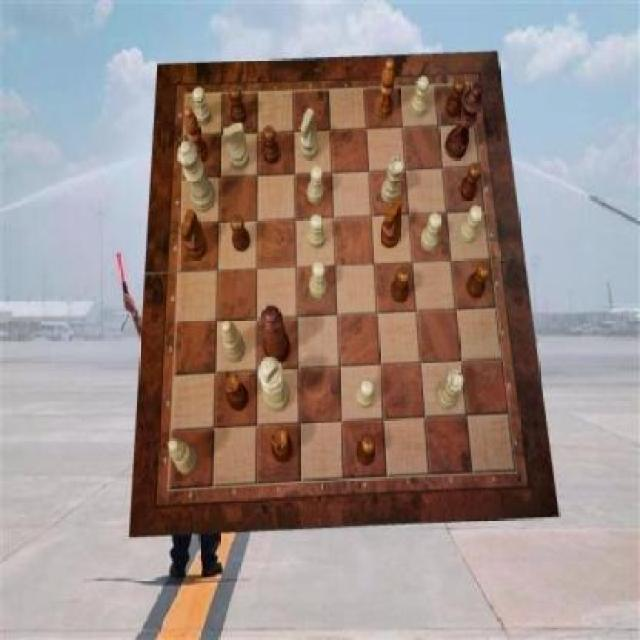bishop: (185, 106, 209, 165), (376, 58, 396, 118)
black-bishop: (445, 82, 482, 160)
black-king: (182, 209, 208, 260), (380, 197, 402, 248)
black-knight: (460, 163, 483, 201), (468, 262, 490, 299), (446, 78, 466, 118), (391, 268, 411, 304), (231, 216, 251, 252), (229, 86, 247, 126), (263, 126, 280, 165), (356, 434, 374, 466)
black-pawn: (260, 306, 291, 364)
black-queen: (225, 372, 249, 412), (272, 426, 293, 464)
black-rook: (168, 439, 198, 476), (222, 320, 246, 364)
white-bishop: (258, 357, 291, 411)
white-king: (223, 123, 249, 171), (300, 108, 320, 160)
white-knight: (458, 206, 482, 244), (422, 212, 442, 250), (192, 88, 212, 126), (411, 77, 428, 118), (309, 262, 327, 299), (308, 166, 324, 204), (308, 214, 325, 248), (356, 380, 376, 408)
white-pawn: (177, 142, 216, 212)
white-queen: (437, 371, 465, 411), (382, 157, 404, 203)
